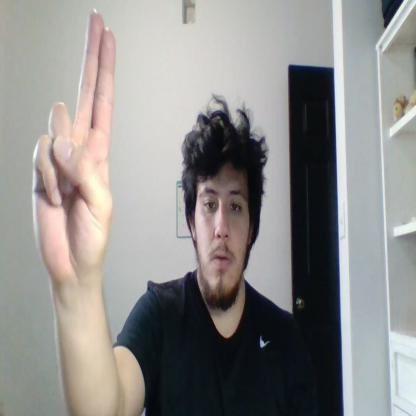U: (33, 7, 115, 278)
